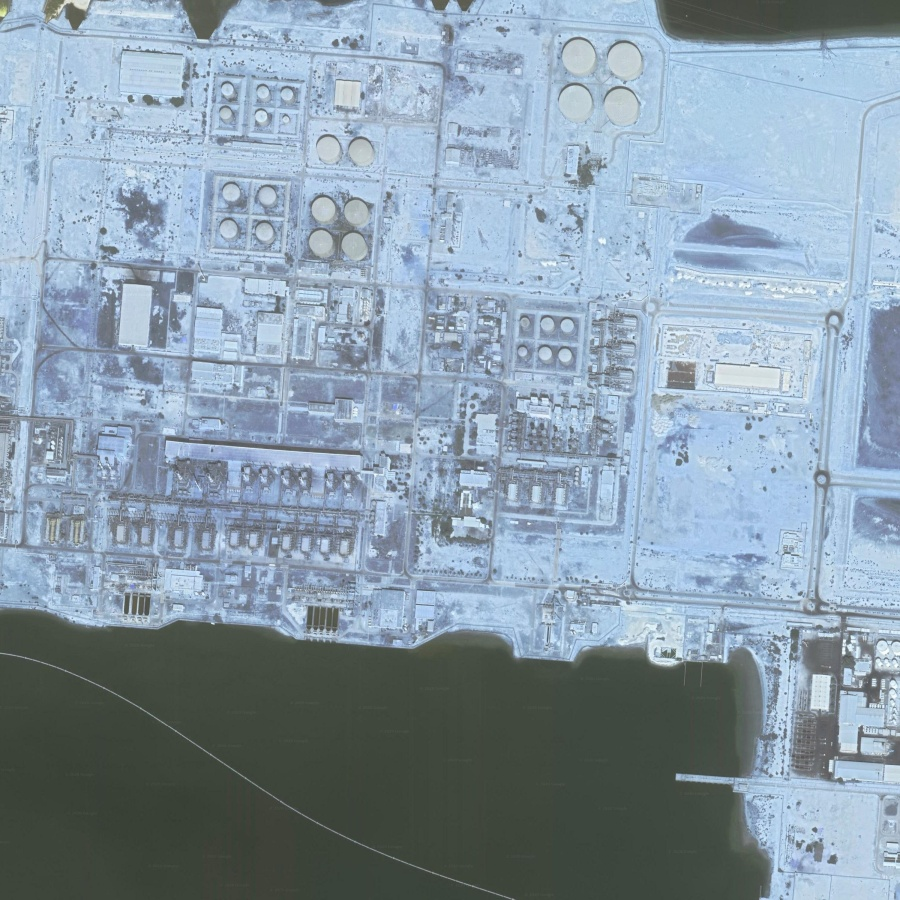PowerPlant: (92, 46, 634, 563)
